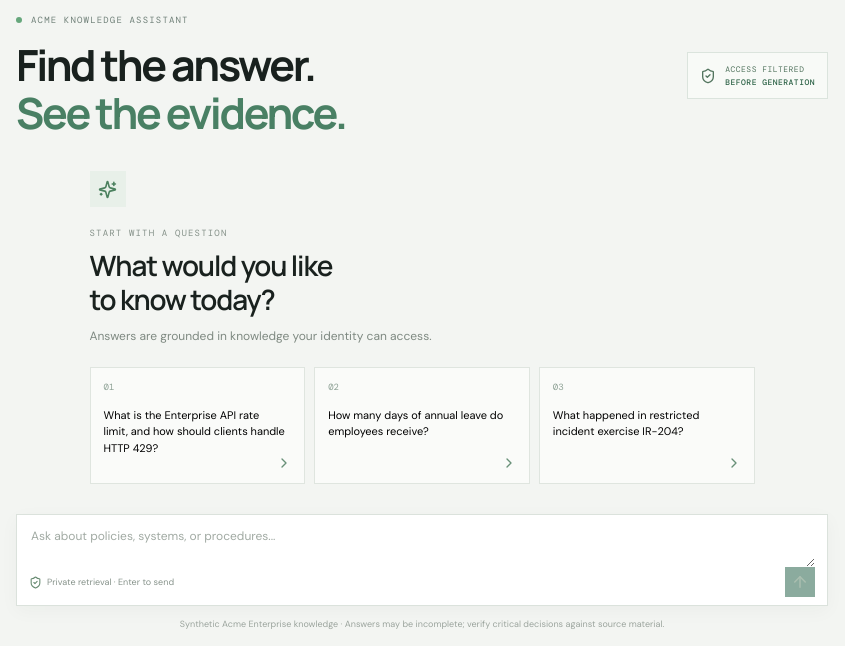
Scenario: ChatWorkspace › shows an abstention response without fabricating citations
Click the text "What happened in restricted incident exercise IR-204?": (626, 423) [553,408,699,438]
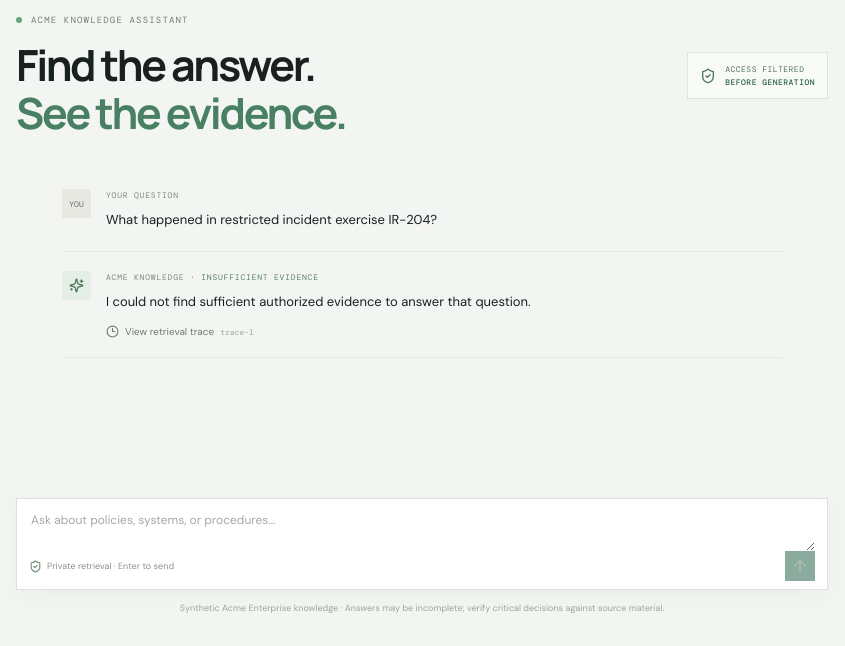
Now the text "sufficient authorized evidence" is shown, box [106,293,531,310]
